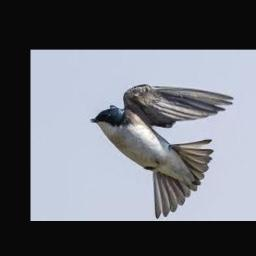Swallow: (91, 84, 234, 218)
